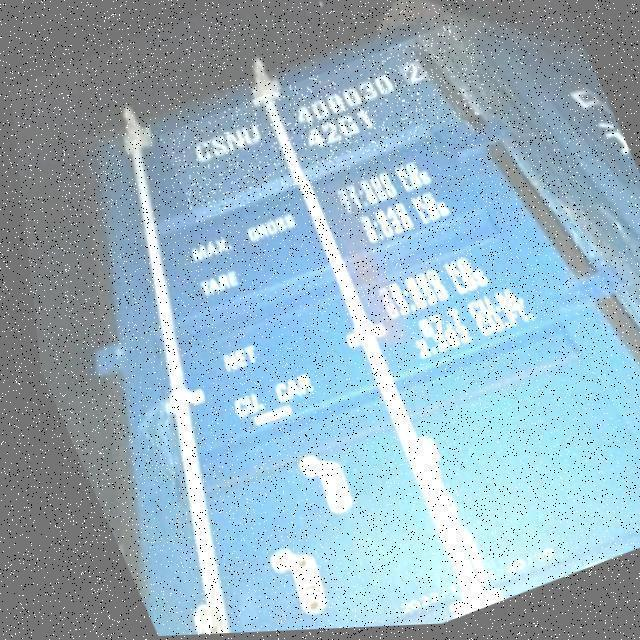ISO: (294, 108, 384, 148)
container_number: (190, 56, 424, 159)
